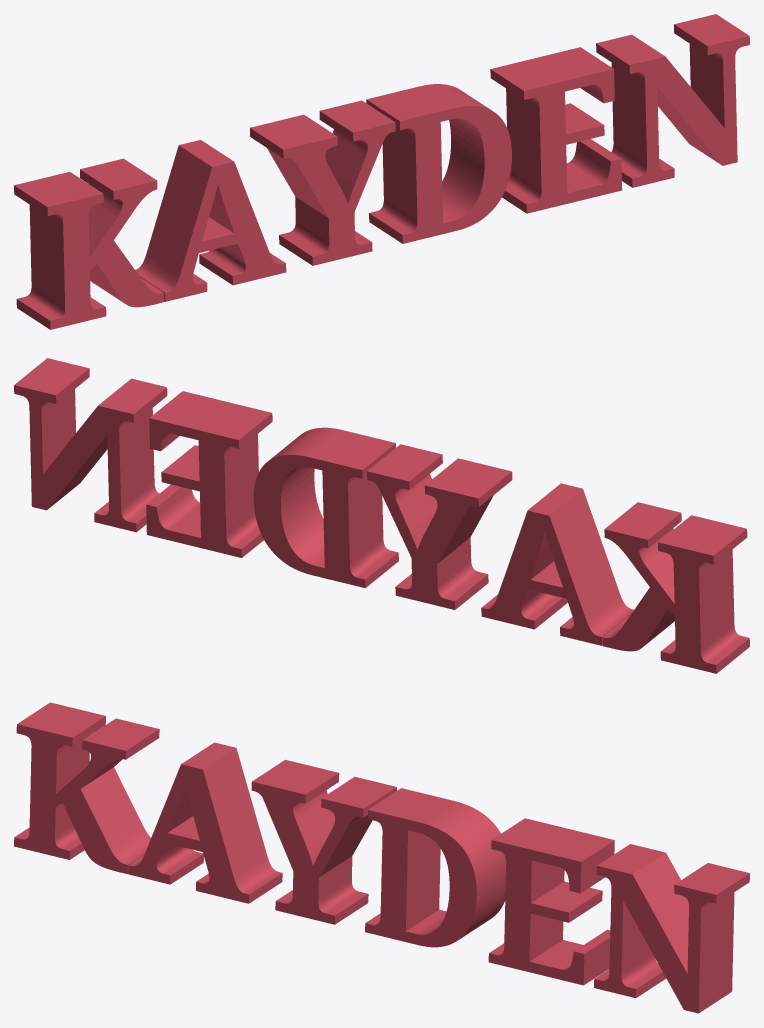
The model's file is kayden.glb.
The picture shows the model from 3 angles, top to bottom: view 1: azimuth 30°, elevation 25°; view 2: azimuth 150°, elevation 25°; view 3: azimuth 330°, elevation 25°; orthographic projection.
Parts seen in each view (by area): view 1: Mesh_Mesh_head_geo.001_lambert2SG.001; view 2: Mesh_Mesh_head_geo.001_lambert2SG.001; view 3: Mesh_Mesh_head_geo.001_lambert2SG.001.
Part boxes in pixels (left/top/right/bottom): Mesh_Mesh_head_geo.001_lambert2SG.001: left=14, top=14, right=749, bottom=329; Mesh_Mesh_head_geo.001_lambert2SG.001: left=14, top=358, right=749, bottom=673; Mesh_Mesh_head_geo.001_lambert2SG.001: left=14, top=702, right=749, bottom=1013.
Bounding box in the file's own units: 0.1207 × 0.0202 × 0.0109.
